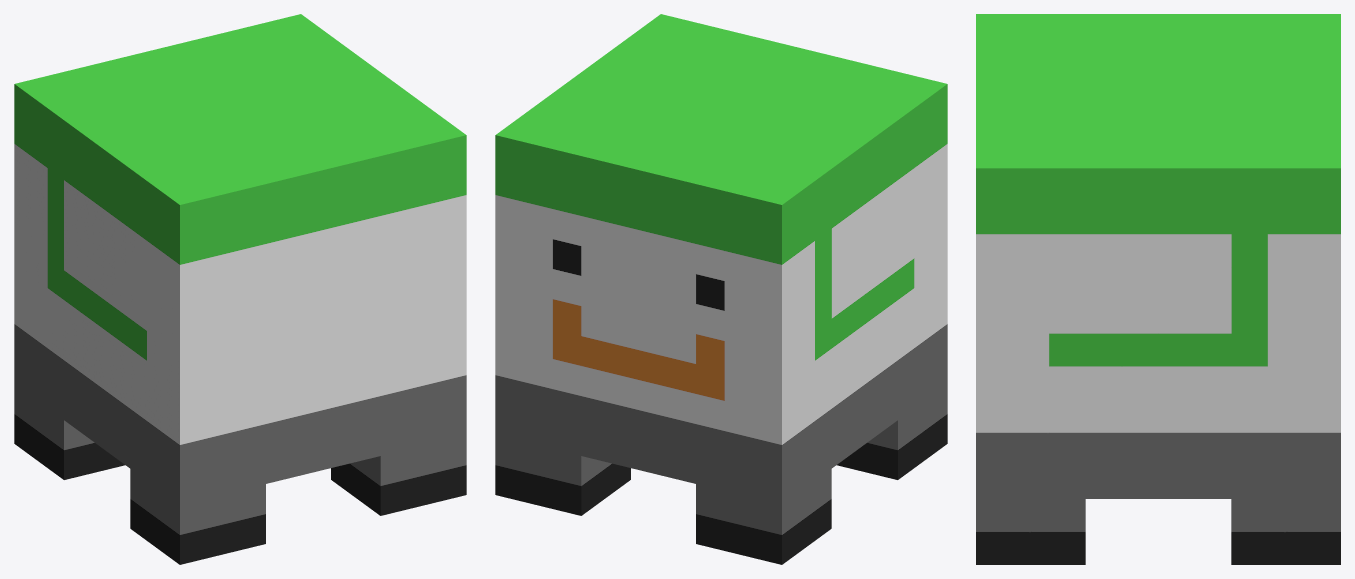
Rendered from Character_9.fbx.
3 renders of one model, left to right at view 1: azimuth 30°, elevation 25°; view 2: azimuth 150°, elevation 25°; view 3: azimuth 270°, elevation 25°, orthographic. The views are drawn at different scales.
Visible parts, largest first — view 1: Character_9; view 2: Character_9; view 3: Character_9.
Part boxes in pixels (x1,y1,x2,y2): Character_9: (14,14,466,564); Character_9: (495,14,947,564); Character_9: (976,14,1340,564).
Size of the model in its own units: 10 by 12 by 10.
1 material, 1 textured.
